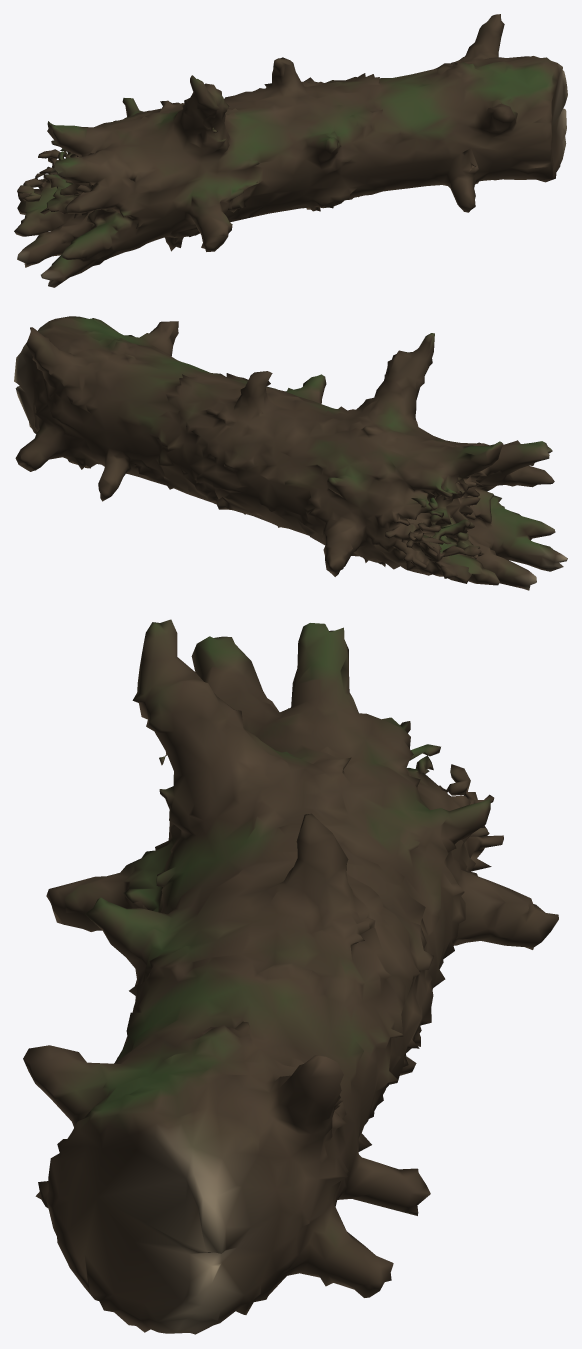
File: fallen-log.glb
The picture shows the model from 3 angles, top to bottom: view 1: azimuth 30°, elevation 25°; view 2: azimuth 150°, elevation 25°; view 3: azimuth 270°, elevation 25°; orthographic projection. The views are drawn at different scales.
Visible parts, largest first — view 1: geometry_0; view 2: geometry_0; view 3: geometry_0.
Part boxes in pixels (bbox=[...]): geometry_0: bbox=[14, 14, 567, 287]; geometry_0: bbox=[14, 316, 567, 590]; geometry_0: bbox=[23, 619, 558, 1334].
Bounding box in the file's own units: 5.48 × 2.01 × 2.41.
